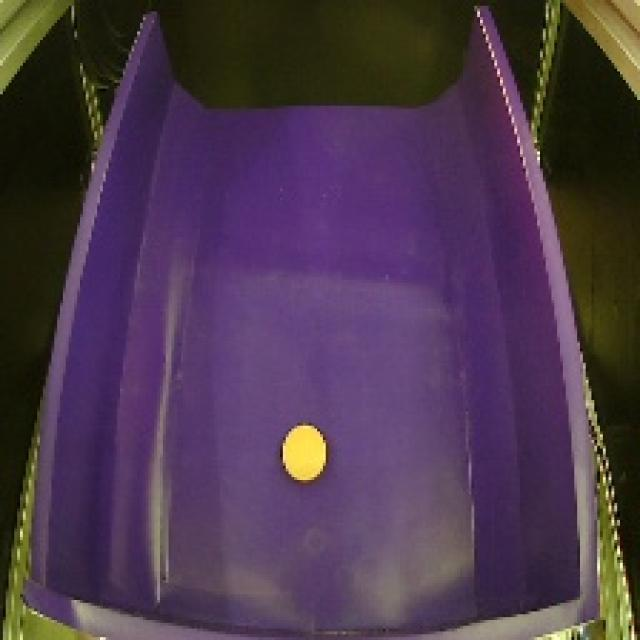small: (280, 420, 330, 486)
